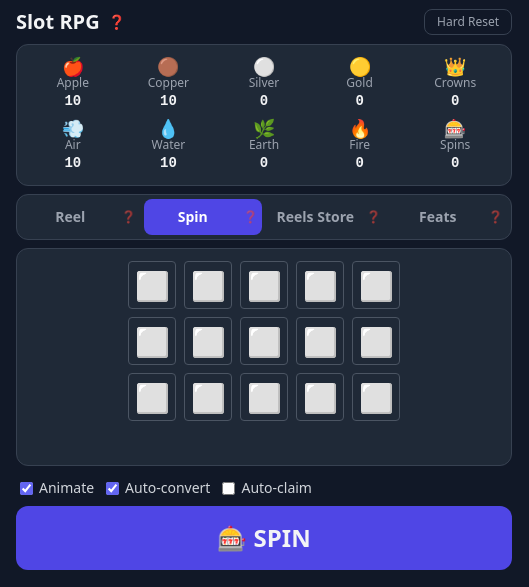
Scenario: prestige flow integration › prestige button is disabled when fewer than 4 icon types have 3 copies
The width and height of the screenshot is (529, 587).
Click the button "Reel" at (80, 217), box [21,199,140,235]
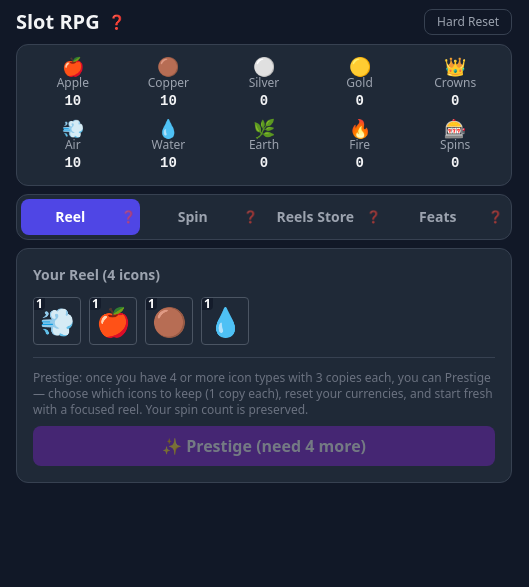
Expected: the button "✨ Prestige (need 4 more)" is disabled, [33,426,495,466]
